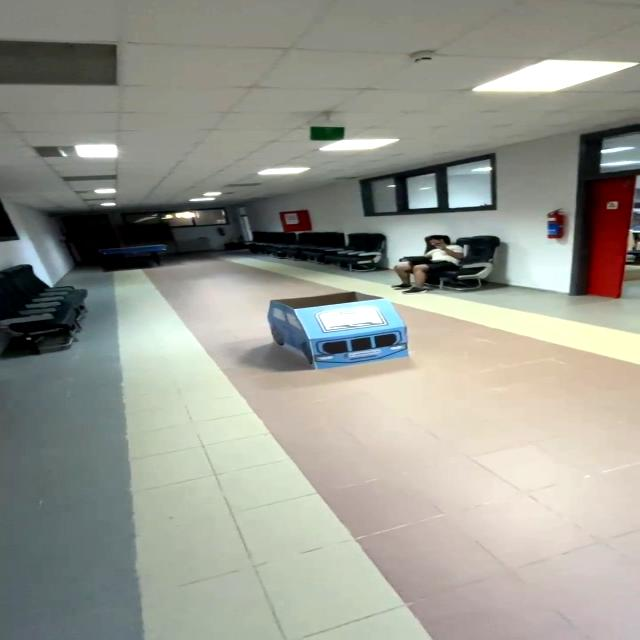blue_car: (251, 284, 424, 379)
